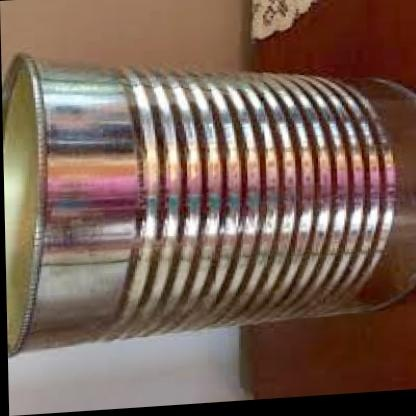trash: (4, 54, 415, 353)
